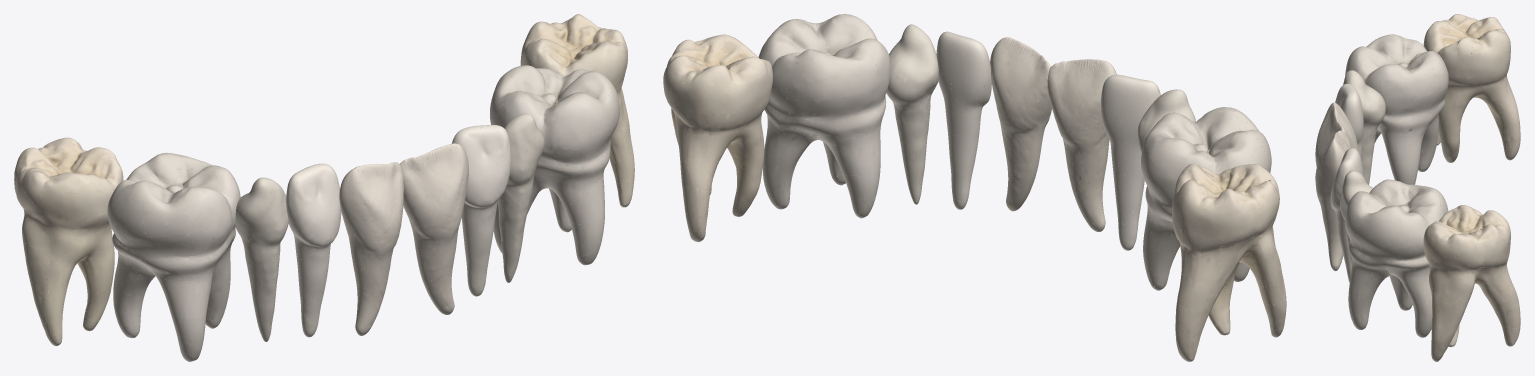
The model's file is superior_temporal_optimizado.glb.
The picture shows the model from 3 angles, left to right: view 1: azimuth 30°, elevation 25°; view 2: azimuth 150°, elevation 25°; view 3: azimuth 270°, elevation 25°; orthographic projection. The views are drawn at different scales.
Parts seen in each view (by area): view 1: diente_64, diente_65, diente_54, diente_51, diente_61, diente_55, diente_62, diente_52, diente_63, diente_53; view 2: diente_54, diente_65, diente_55, diente_64, diente_61, diente_51, diente_52, diente_62, diente_53, diente_63; view 3: diente_54, diente_55, diente_64, diente_65, diente_51, diente_63, diente_52, diente_61, diente_62, diente_53.
Part boxes in pixels (left/top/right/bottom): diente_64: left=107, top=152, right=240, bottom=361; diente_65: left=14, top=137, right=123, bottom=346; diente_54: left=490, top=65, right=619, bottom=265; diente_51: left=400, top=143, right=468, bottom=314; diente_61: left=339, top=162, right=403, bottom=335; diente_55: left=520, top=14, right=634, bottom=207; diente_62: left=286, top=163, right=341, bottom=337; diente_52: left=452, top=125, right=511, bottom=296; diente_63: left=235, top=177, right=288, bottom=341; diente_53: left=497, top=113, right=544, bottom=282; diente_54: left=758, top=14, right=890, bottom=218; diente_65: left=1172, top=164, right=1286, bottom=361; diente_55: left=663, top=34, right=772, bottom=242; diente_64: left=1141, top=107, right=1271, bottom=290; diente_61: left=1047, top=59, right=1116, bottom=231; diente_51: left=990, top=37, right=1051, bottom=211; diente_52: left=936, top=31, right=991, bottom=209; diente_62: left=1101, top=74, right=1160, bottom=250; diente_53: left=886, top=24, right=938, bottom=204; diente_63: left=1138, top=89, right=1195, bottom=152; diente_54: left=1345, top=179, right=1448, bottom=337; diente_55: left=1423, top=205, right=1520, bottom=361; diente_64: left=1345, top=34, right=1448, bottom=184; diente_65: left=1423, top=14, right=1520, bottom=162; diente_51: left=1315, top=130, right=1351, bottom=270; diente_63: left=1343, top=70, right=1385, bottom=184; diente_52: left=1330, top=148, right=1363, bottom=282; diente_61: left=1315, top=102, right=1358, bottom=166; diente_62: left=1335, top=83, right=1363, bottom=159; diente_53: left=1340, top=170, right=1372, bottom=266.
Size of the model in its own units: 6.97 by 1.9 by 2.66.
5 materials, 5 textured.
